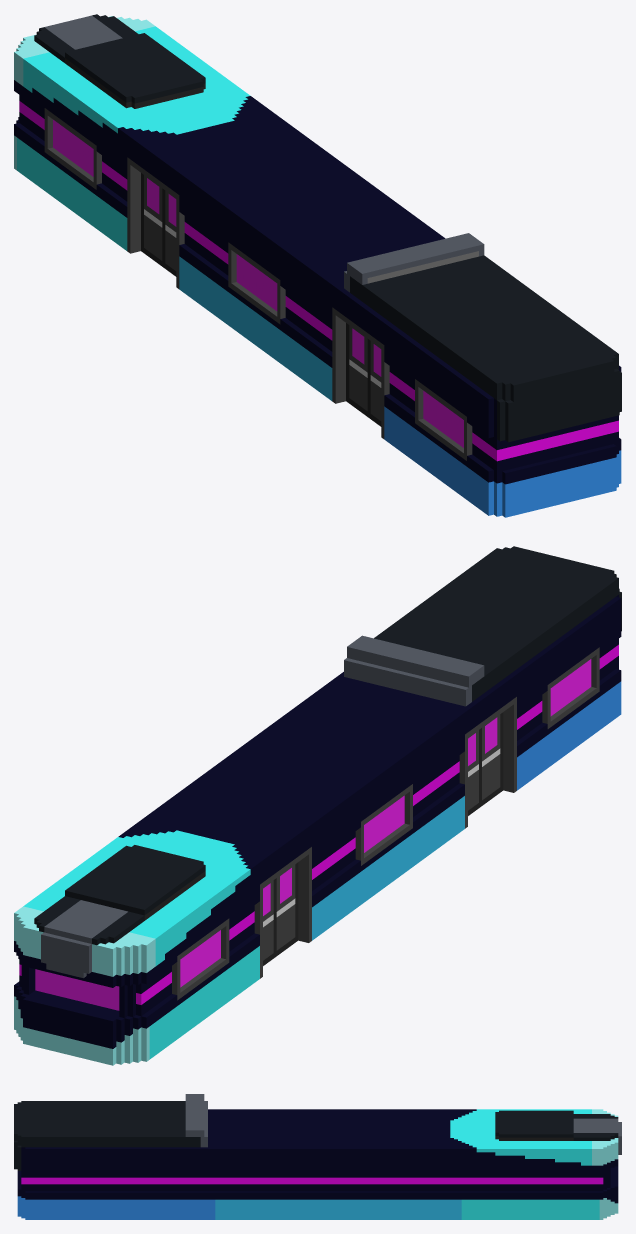
The model's file is subway2-1.obj.
3 views of the same model, one above another, from view 1: azimuth 30°, elevation 25°; view 2: azimuth 150°, elevation 25°; view 3: azimuth 270°, elevation 25° (orthographic). The views are drawn at different scales.
Bounding box in the file's own units: 2.5 × 2.6 × 16.3.
Materials: 1 (1 with a texture image).
